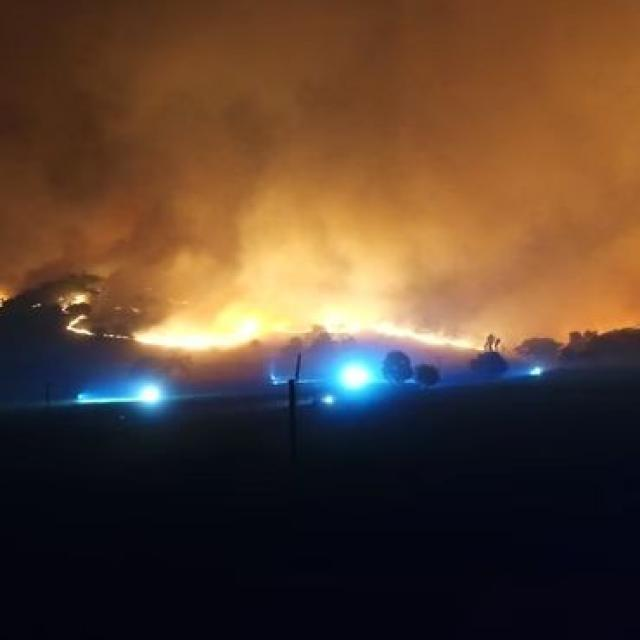Fire: (324, 310, 484, 360), (140, 318, 265, 358)
Smoke: (7, 2, 639, 294)
